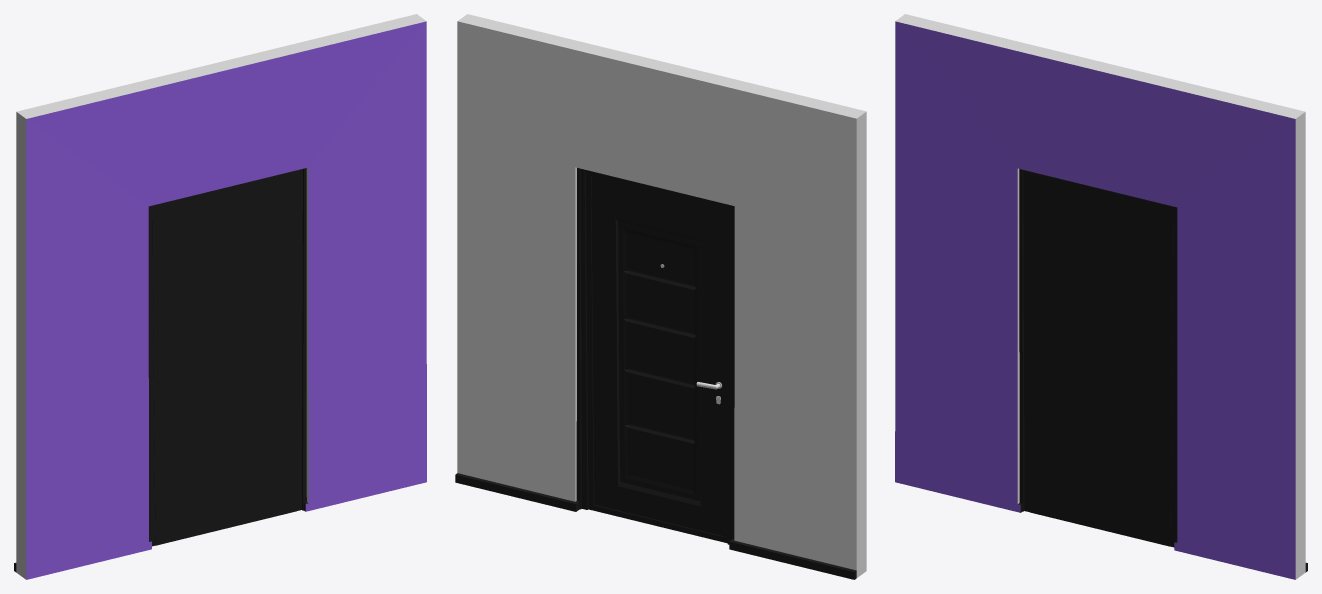
File: wall_door.fbx
3 views of the same model, side by side, from view 1: azimuth 30°, elevation 25°; view 2: azimuth 150°, elevation 25°; view 3: azimuth 330°, elevation 25° (orthographic).
Visible parts, largest first — view 1: wall_door, apartment _door; view 2: wall_door, apartment _door; view 3: wall_door, apartment _door.
Part boxes in pixels (x1,y1,x2,y2): wall_door: (14,14,426,579); apartment _door: (152,170,298,545); wall_door: (455,14,866,579); apartment _door: (585,171,730,543); wall_door: (895,14,1307,579); apartment _door: (1027,171,1173,546).
Size of the model in its own units: 2.5 by 2.75 by 0.1324.
